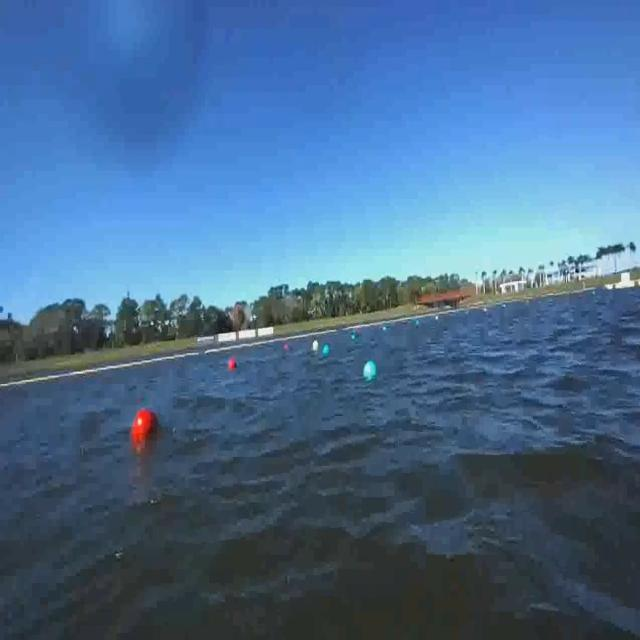green-buoy: (362, 359, 377, 381), (322, 344, 330, 358)
red-buoy: (133, 409, 163, 449), (228, 357, 236, 372)
yellow-buoy: (312, 341, 320, 354)
